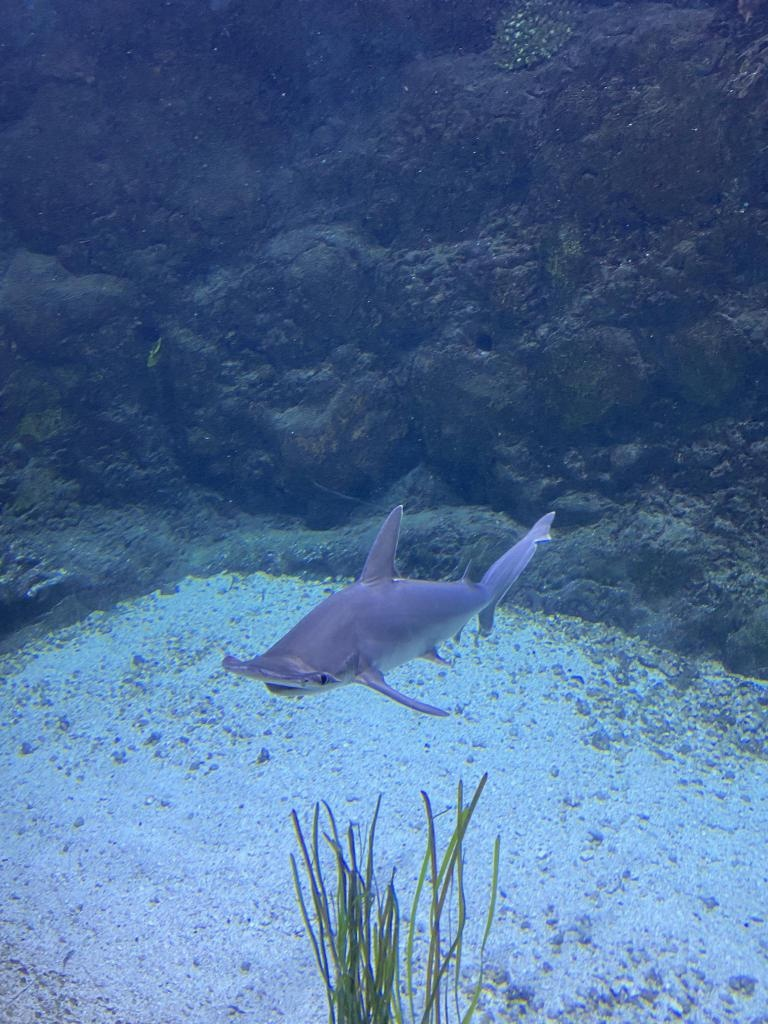shark: (221, 504, 554, 716)
